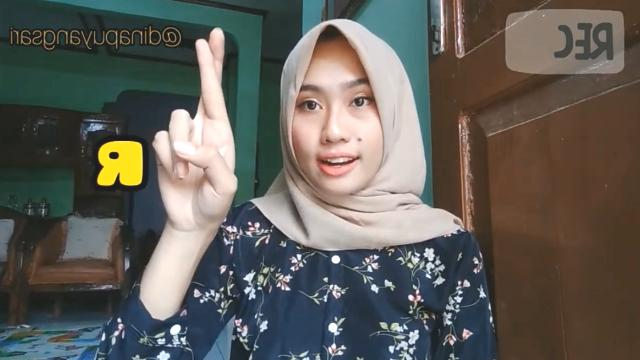R: (150, 22, 240, 228)
